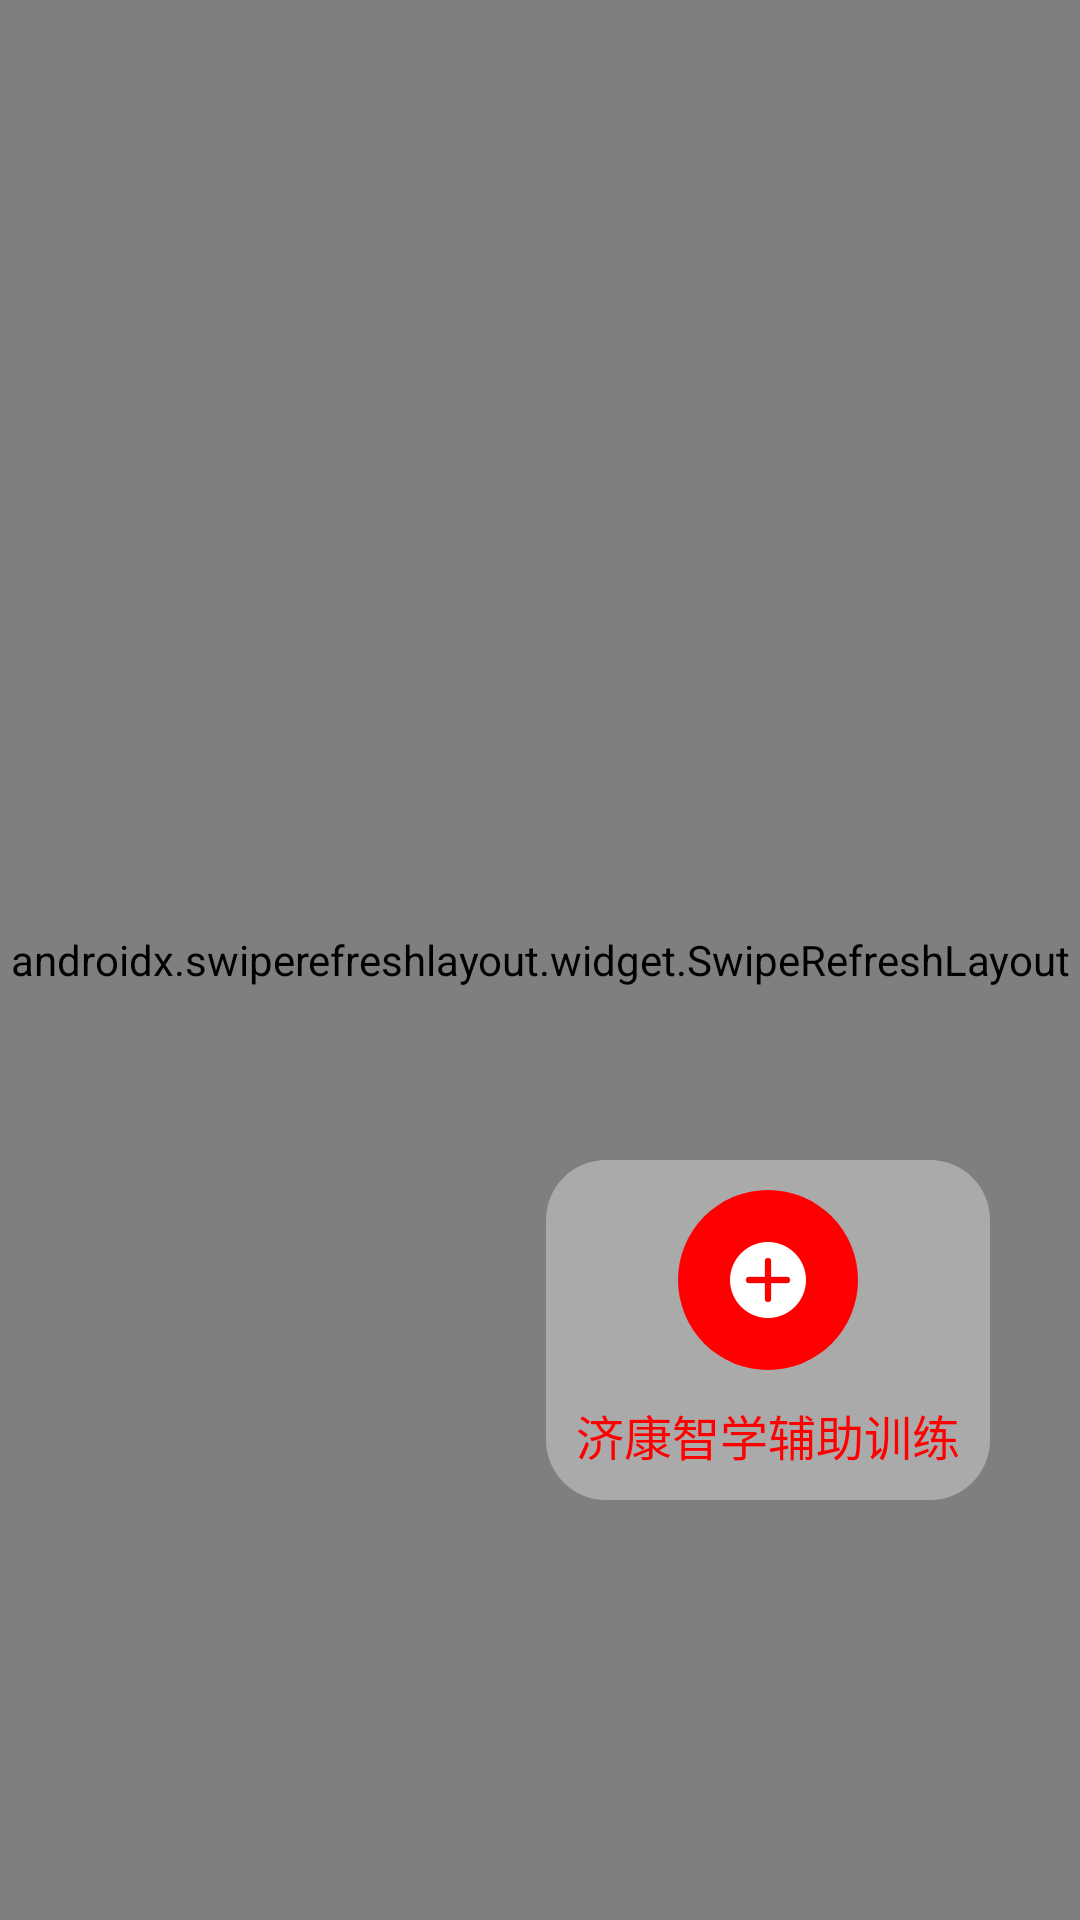

Where icons sit on this 1080x1920 app screen, as box(x1, y1, x2, y2):
add: box(730, 1242, 806, 1318)
